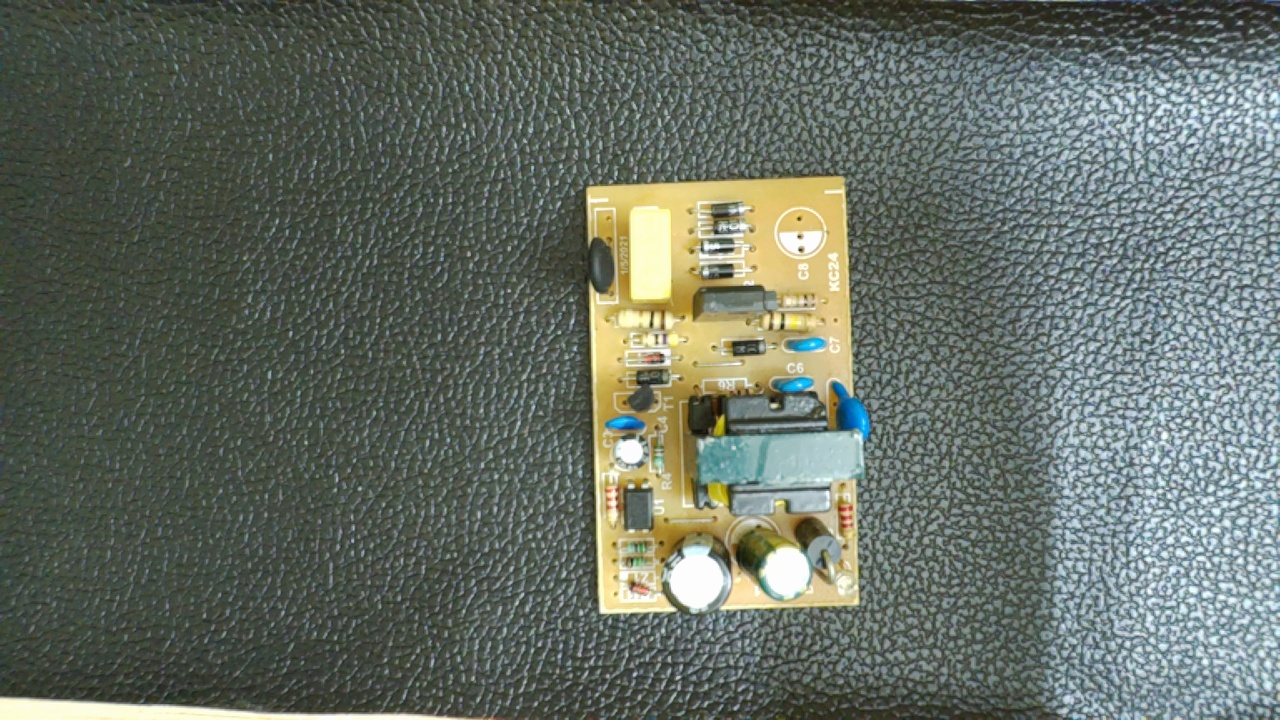fuse: (585, 233, 621, 306)
mov: (824, 375, 872, 443)
optocoupler: (615, 480, 660, 534)
